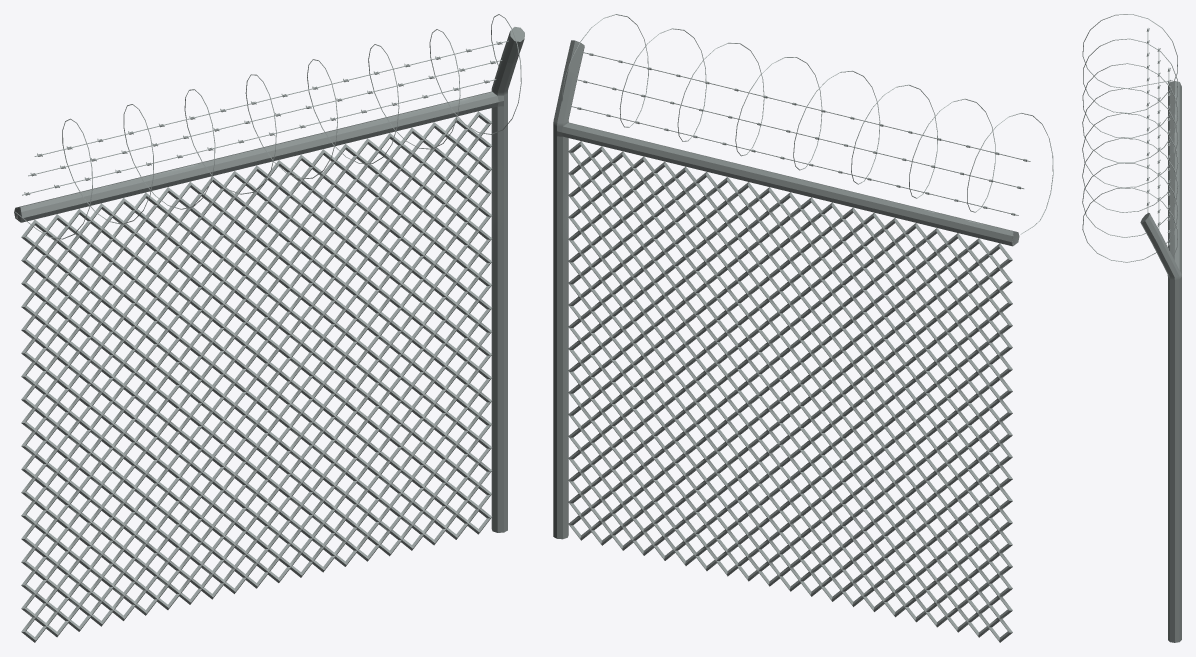
File: FenceR.fbx
3 views of the same model, side by side, from view 1: azimuth 30°, elevation 25°; view 2: azimuth 150°, elevation 25°; view 3: azimuth 270°, elevation 25° (orthographic). The views are drawn at different scales.
Parts seen in each view (by area): view 1: polySurface517; view 2: polySurface517; view 3: polySurface517.
Boxes of the visible parts, bbox=[...] form: polySurface517: bbox=[14, 14, 524, 642]; polySurface517: bbox=[553, 14, 1053, 642]; polySurface517: bbox=[1082, 14, 1181, 642].
Size of the model in its own units: 17.36 by 17.99 by 3.66.
1 material, 1 textured.
